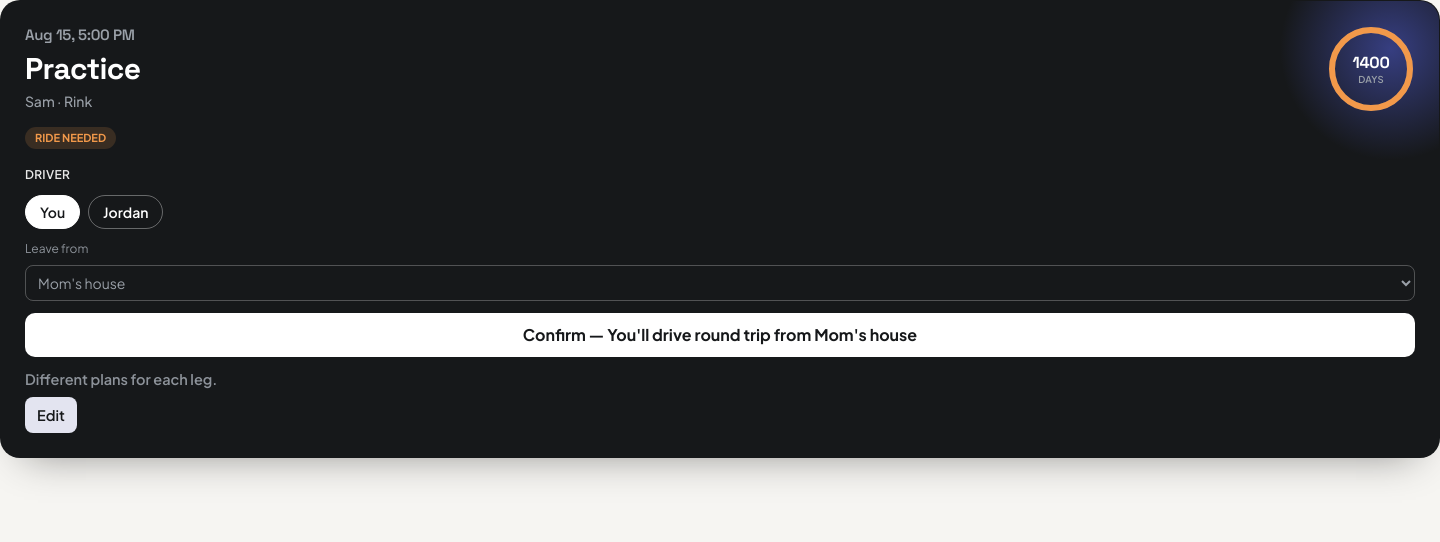
Test: AgendaFocusCard assign › updates Confirm origin live from one-time leave-from draft
The image size is (1440, 542).
Select "One-time address…" in the dropdown with test id "focus-leave-from-MANUAL-assign-origin-place-select" at (720, 283), box [25, 265, 1415, 301]
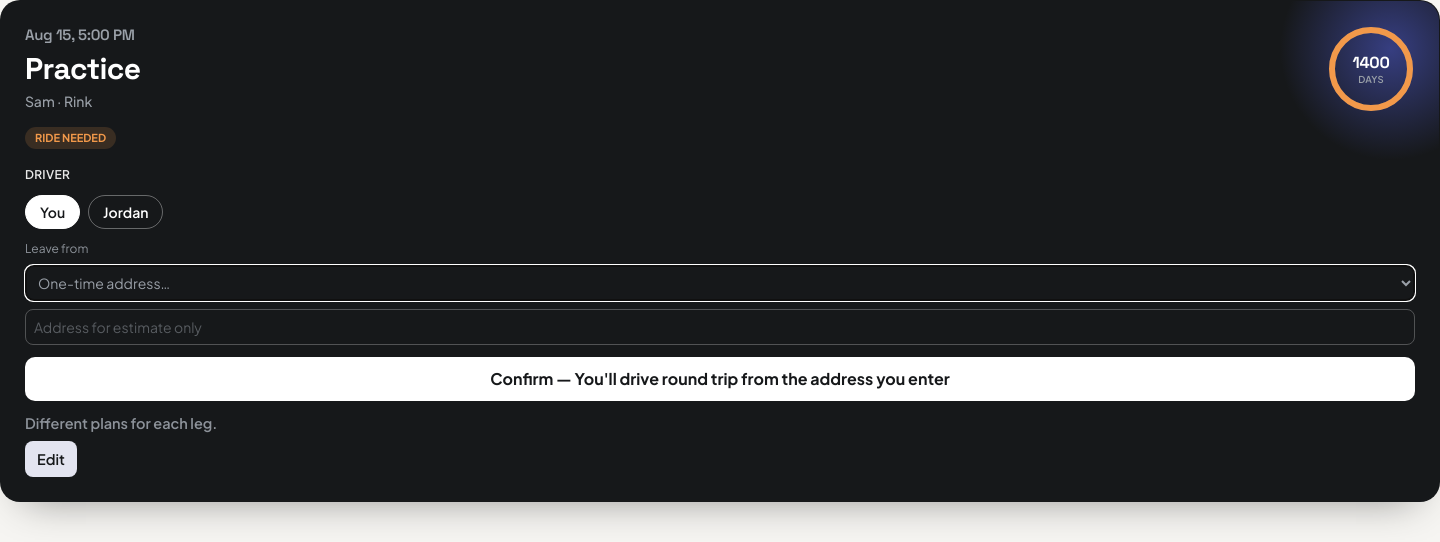
Type "Library lot" into the field with test id "focus-leave-from-MANUAL-assign-origin-one-time-input" at (720, 327), box [25, 309, 1415, 345]
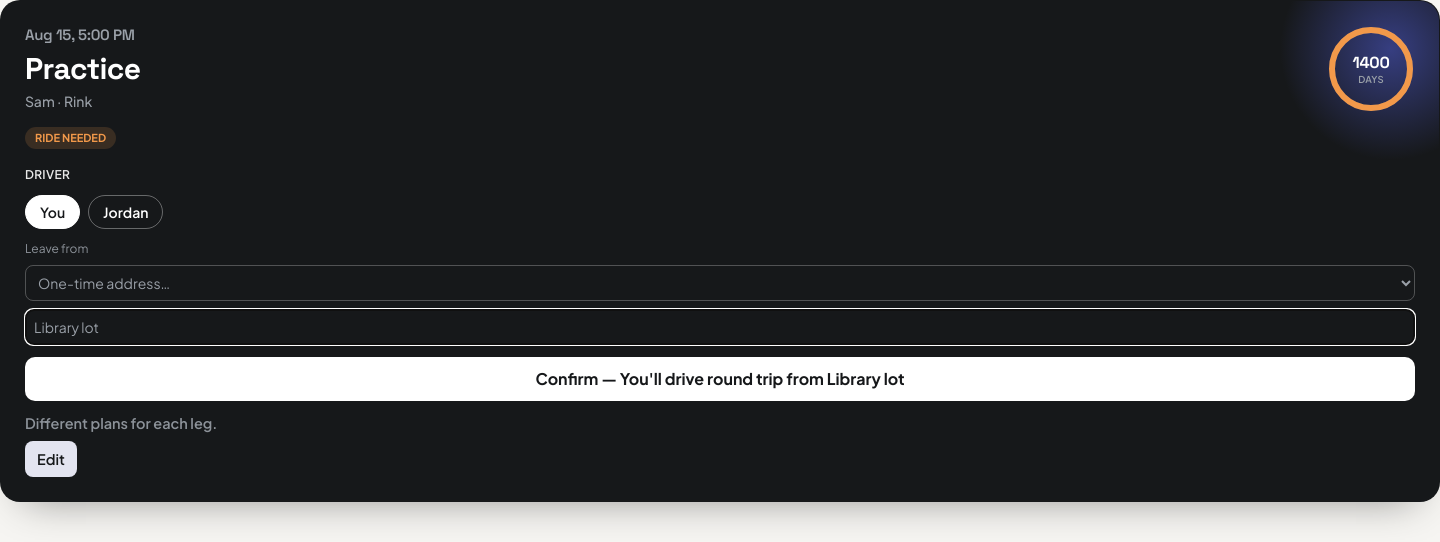
Check: the button "Confirm — You'll drive round trip from Library lot" is shown, box [25, 357, 1415, 401]
